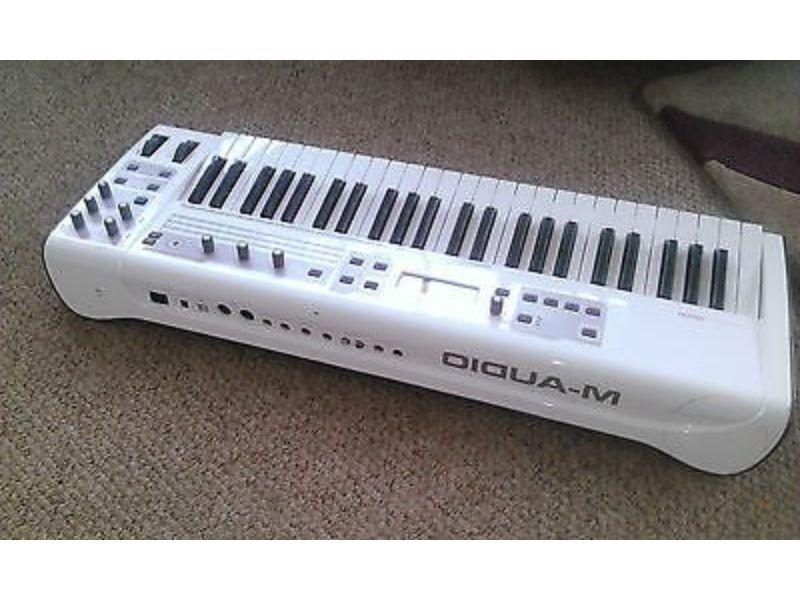synthesizer: (34, 99, 791, 490)
